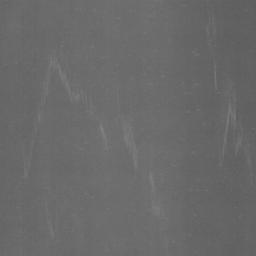Silk spot: (224, 123, 237, 144)
